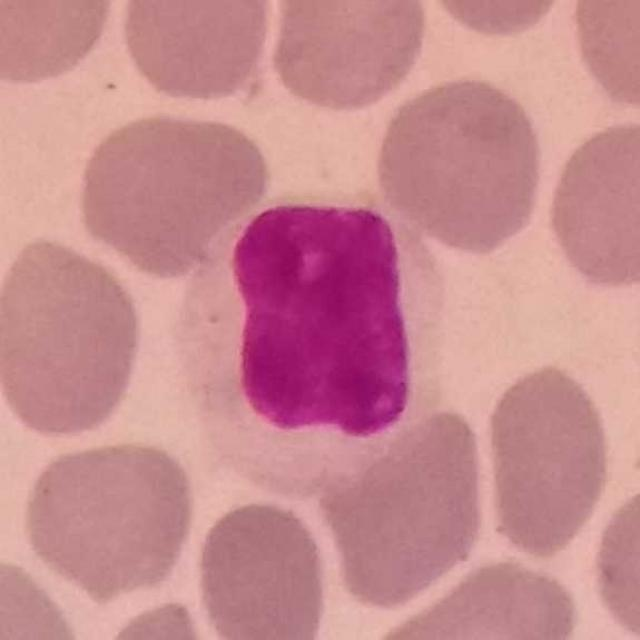Lymphocyte: (168, 188, 457, 498)
RBC: (313, 399, 494, 611), (69, 104, 276, 277), (369, 69, 550, 257), (0, 230, 150, 445), (16, 434, 200, 601), (475, 358, 618, 562), (188, 494, 335, 640), (263, 0, 434, 116), (360, 553, 586, 640), (114, 0, 280, 108), (540, 114, 640, 292), (0, 0, 122, 89), (585, 473, 640, 640), (565, 0, 640, 120), (0, 550, 92, 640), (89, 593, 259, 640), (411, 0, 580, 41)
